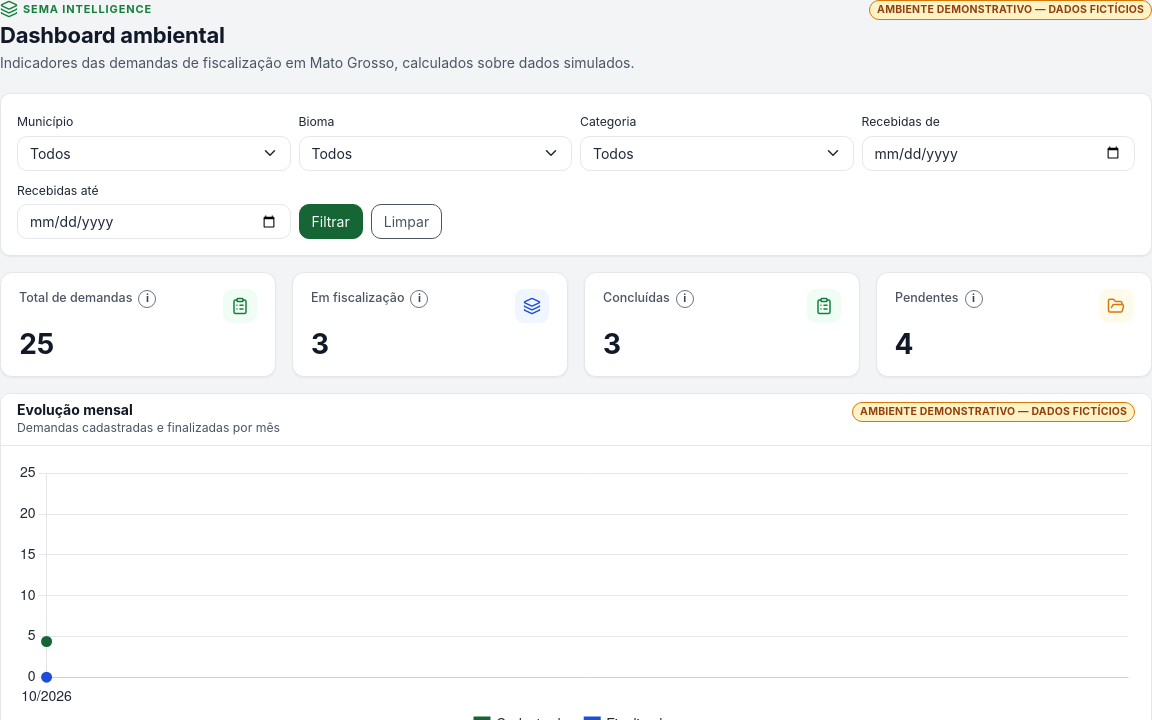
Test: IntelligenceDashboardPage › recusa período invertido sem alterar os filtros
Type "2026-06-01" into the date field labelled "Recebidas de" at (998, 153), box [862,136,1135,171]
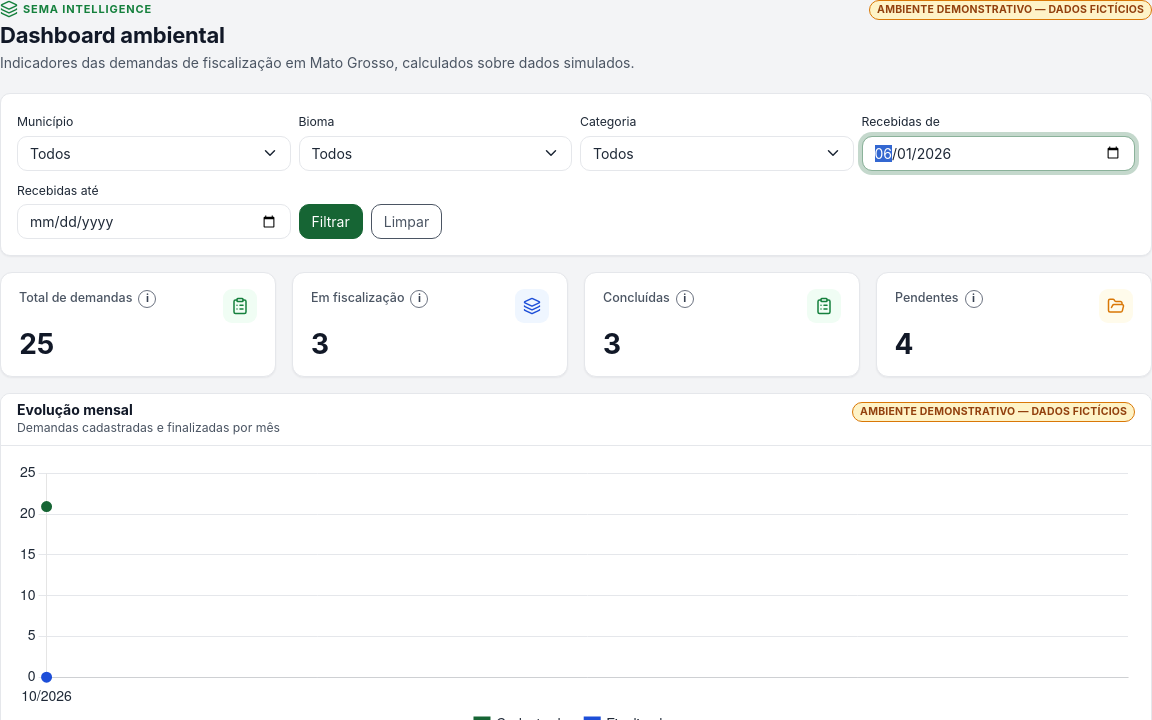
Type "2026-02-01" into the date field labelled "Recebidas até" at (154, 222), box [17,204,290,239]
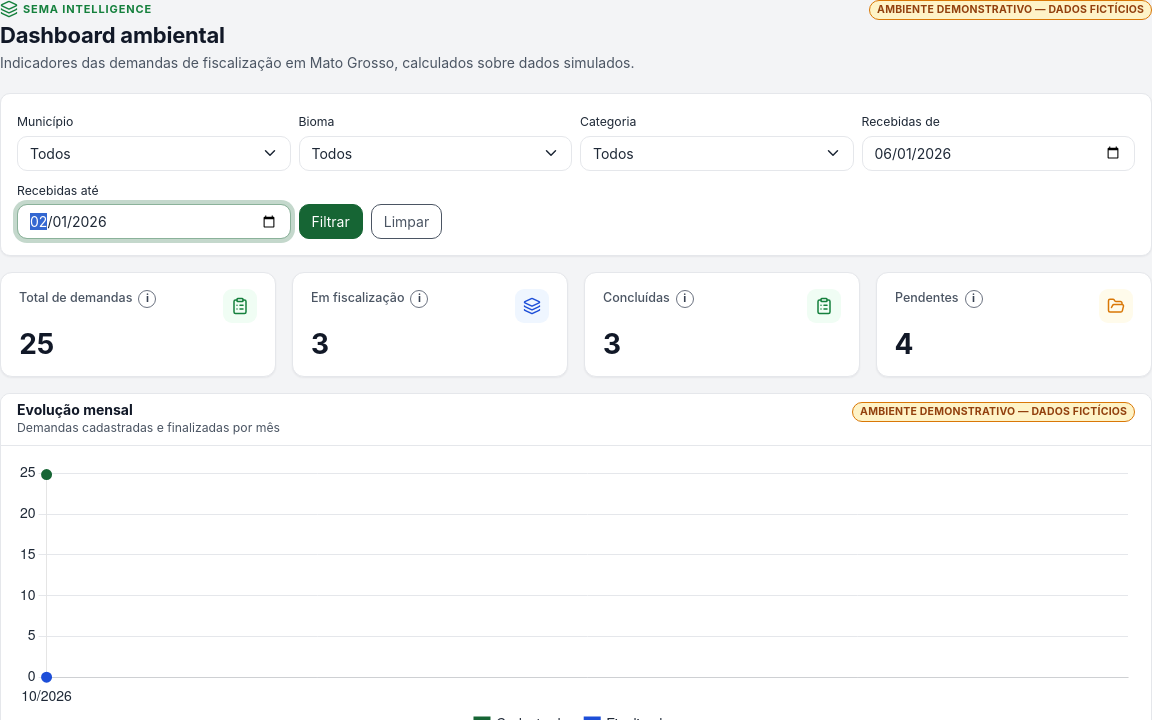
Click the button "Filtrar" at (331, 222), box [298,204,363,239]
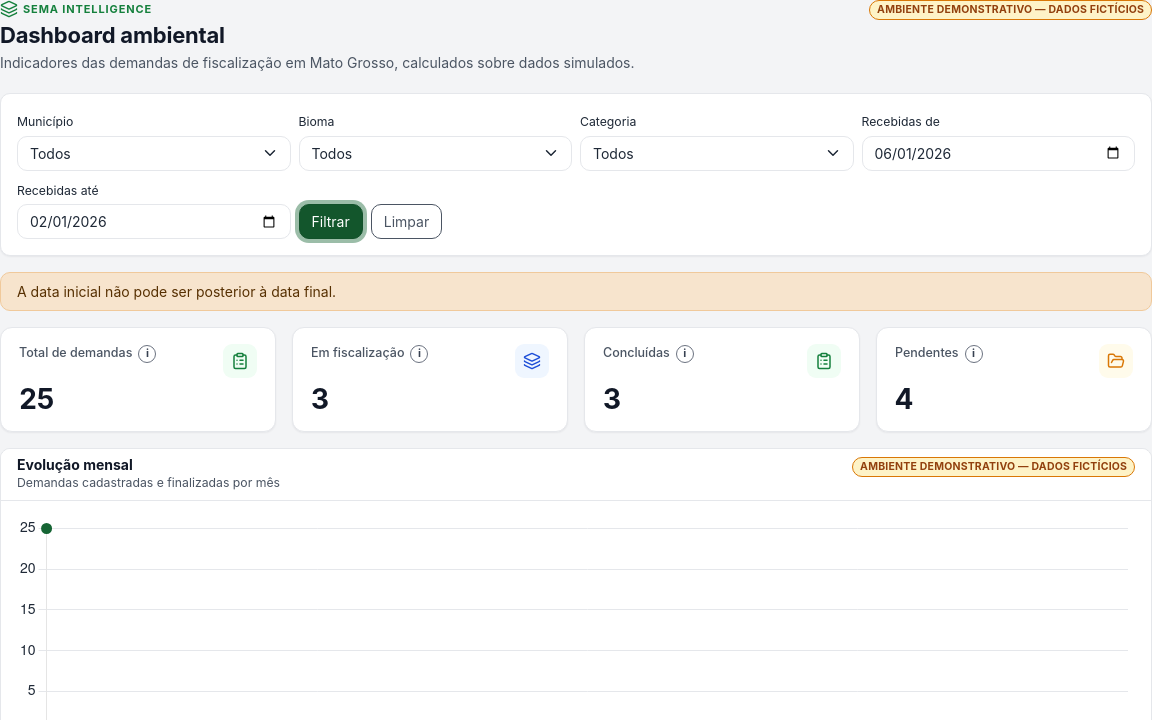
expect the message shows "data inicial não pode ser posterior": met, box [17,283,336,300]
